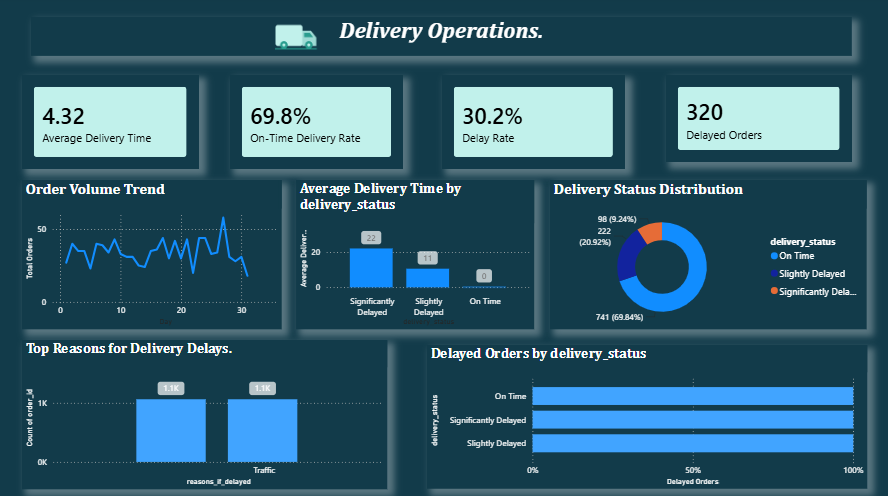

Layout of this report page (visuals, bound fields, positions):
{"tool":"powerbi","page":{"name":"Delivery operations","canvas":[1280,720],"ordinal":2},"visuals":[{"type":"textbox","title":"Delivery Operations.","box":[44.6,28.8,1182.2,56.2],"z":0},{"type":"cardVisual","fields":{"Data":["microfulfilliq blinkit_delivery_performance.On-Time Delivery Rate"]},"box":[331.2,112.3,249.1,135.4],"z":1000},{"type":"cardVisual","fields":{"Data":["microfulfilliq blinkit_delivery_performance.Average Delivery Time"]},"box":[31.7,112.3,254.9,135.4],"z":2000},{"type":"cardVisual","fields":{"Data":["microfulfilliq blinkit_delivery_performance.Delayed Orders"]},"box":[959,112.3,267.8,125.3],"z":3000},{"type":"cardVisual","fields":{"Data":["microfulfilliq blinkit_orders.Delay Rate"]},"box":[636.5,112.3,263.5,135.4],"z":4000},{"type":"donutChart","title":"Delivery Status Distribution","fields":{"Category":["microfulfilliq blinkit_delivery_performance.delivery_status"],"Y":["CountNonNull(microfulfilliq blinkit_delivery_performance.order_id)"]},"box":[792,263.5,456.5,214.6],"z":5000},{"type":"lineStackedColumnComboChart","fields":{"Category":["microfulfilliq blinkit_delivery_performance.delivery_status"],"Y":["microfulfilliq blinkit_delivery_performance.Average Delivery Time"]},"box":[426.2,263.5,342.7,214.6],"z":6000},{"type":"hundredPercentStackedBarChart","fields":{"Category":["microfulfilliq blinkit_delivery_performance.delivery_status"],"Y":["microfulfilliq blinkit_delivery_performance.Delayed Orders"]},"box":[614.9,501.1,633.6,207.4],"z":7000},{"type":"lineChart","title":"Order Volume Trend","fields":{"Category":["microfulfilliq blinkit_orders.order_date.Variation.Date Hierarchy.Year","microfulfilliq blinkit_orders.order_date.Variation.Date Hierarchy.Quarter","microfulfilliq blinkit_orders.order_date.Variation.Date Hierarchy.Month","microfulfilliq blinkit_orders.order_date.Variation.Date Hierarchy.Day"],"Y":["microfulfilliq blinkit_orders.Total Orders"]},"box":[31.7,263.5,374.4,214.6],"z":8000},{"type":"lineStackedColumnComboChart","title":"Top Reasons for Delivery Delays.","fields":{"Category":["microfulfilliq blinkit_delivery_performance.reasons_if_delayed"],"Y":["CountNonNull(microfulfilliq blinkit_order_items.order_id)"]},"box":[31.7,493.9,525.6,214.6],"z":9000},{"type":"image","box":[352.8,14.4,145.4,85],"z":9001}]}

Visuals, with their boxes in screenshot pixels (x1, y1, x2, y2), scaled from the page's 1280x720 canvas onto the 888x496 screenshot:
"Delivery Operations." textbox: [31,20,851,59]
cardVisual - microfulfilliq blinkit_delivery_performance.On-Time Delivery Rate: [230,77,403,171]
cardVisual - microfulfilliq blinkit_delivery_performance.Average Delivery Time: [22,77,199,171]
cardVisual - microfulfilliq blinkit_delivery_performance.Delayed Orders: [665,77,851,164]
cardVisual - microfulfilliq blinkit_orders.Delay Rate: [442,77,624,171]
"Delivery Status Distribution" donutChart: [549,182,866,329]
lineStackedColumnComboChart - microfulfilliq blinkit_delivery_performance.delivery_status x microfulfilliq blinkit_delivery_performance.Average Delivery Time: [296,182,533,329]
hundredPercentStackedBarChart - microfulfilliq blinkit_delivery_performance.delivery_status x microfulfilliq blinkit_delivery_performance.Delayed Orders: [427,345,866,488]
"Order Volume Trend" lineChart: [22,182,282,329]
"Top Reasons for Delivery Delays." lineStackedColumnComboChart: [22,340,387,488]
image: [245,10,346,68]
